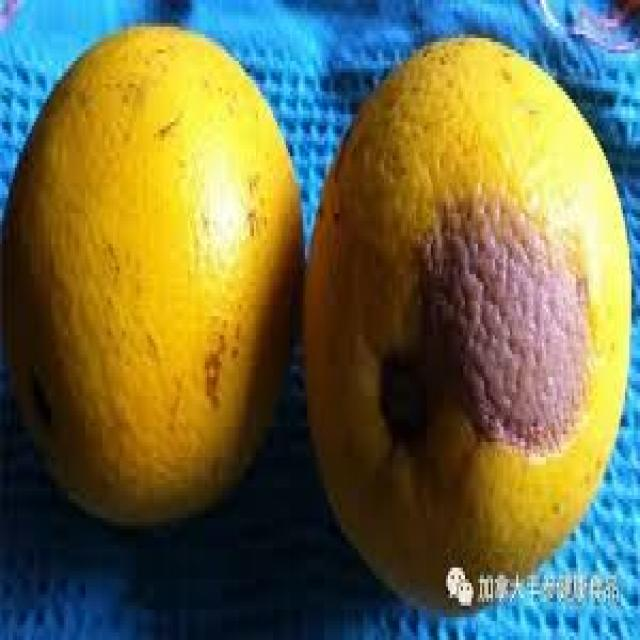organic waste: (301, 31, 631, 614), (0, 19, 297, 526)
